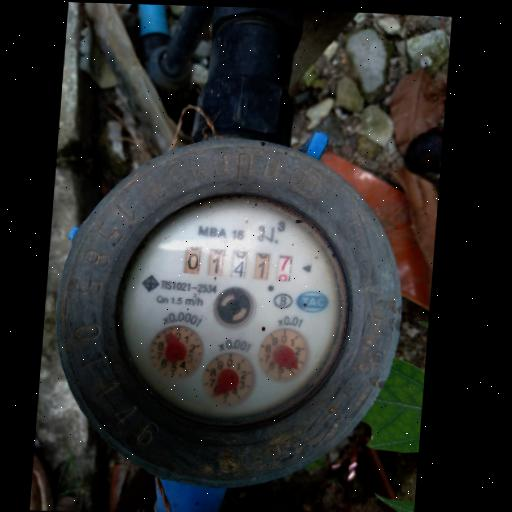0: (186, 246, 202, 274)
1: (208, 249, 226, 276), (255, 253, 270, 280)
4: (231, 250, 249, 279)
7: (277, 255, 292, 281)
border_water_meter_number: (183, 245, 294, 282)
